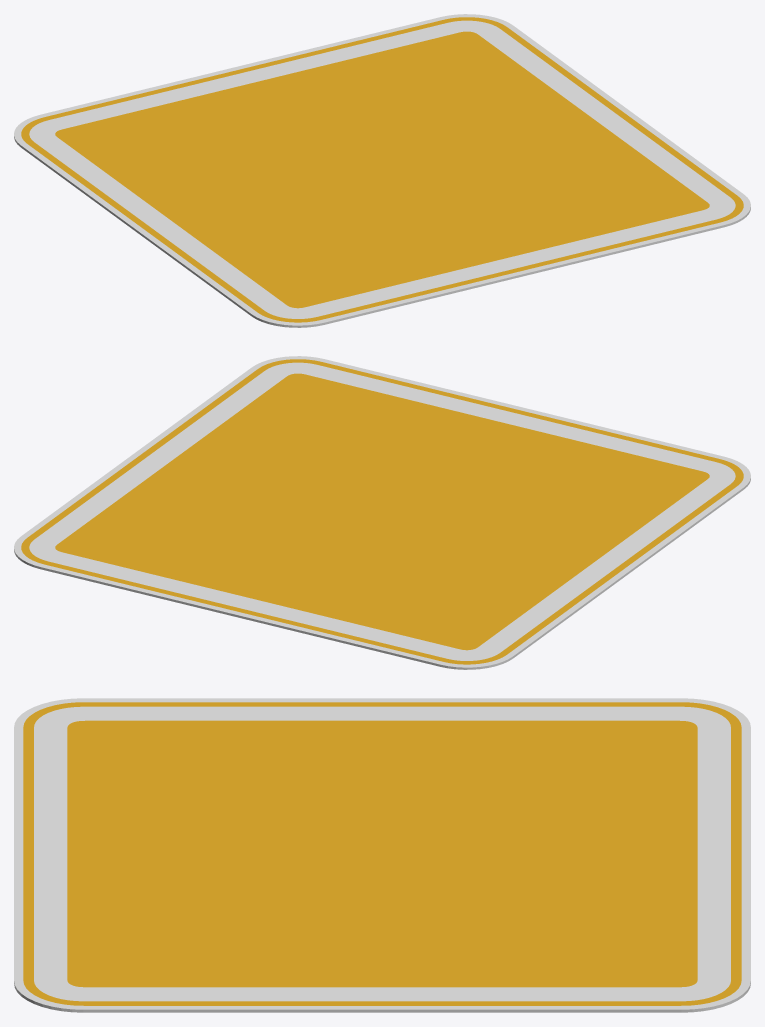
File: rug.glb
3 views of the same model, one above another, from view 1: azimuth 30°, elevation 25°; view 2: azimuth 150°, elevation 25°; view 3: azimuth 270°, elevation 25° (orthographic). The views are drawn at different scales.
Parts seen in each view (by area): view 1: rug; view 2: rug; view 3: rug.
Part boxes in pixels (left/top/right/bottom): rug: left=14, top=14, right=750, bottom=327; rug: left=14, top=356, right=750, bottom=669; rug: left=14, top=698, right=750, bottom=1012.
Bounding box in the file's own units: 16.01 × 0.0704 × 16.01.
